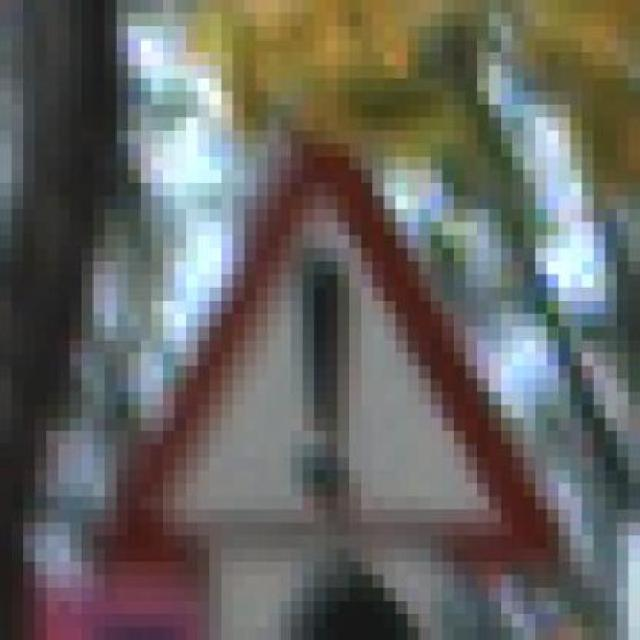Attention Please-: (69, 104, 594, 601)
